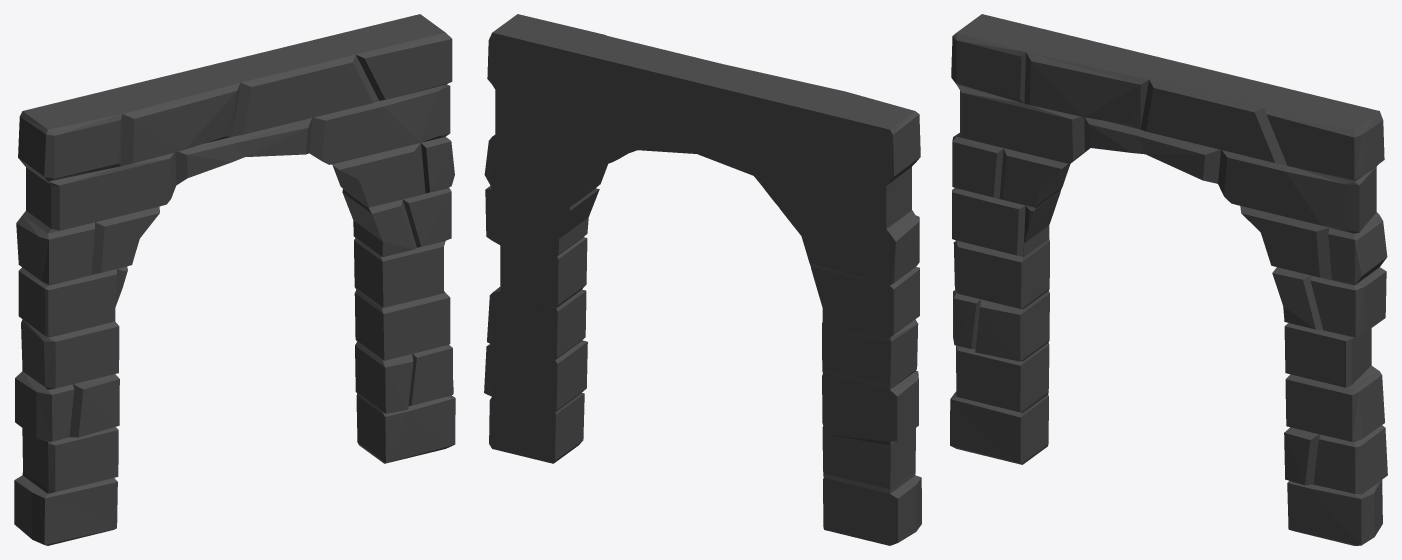
The model's file is Wall_Doorway.fbx.
3 views of the same model, side by side, from view 1: azimuth 30°, elevation 25°; view 2: azimuth 150°, elevation 25°; view 3: azimuth 330°, elevation 25° (orthographic).
Visible parts, largest first — view 1: Wall_Doorway; view 2: Wall_Doorway; view 3: Wall_Doorway.
Part boxes in pixels (bbox=[...]): Wall_Doorway: bbox=[14, 14, 455, 545]; Wall_Doorway: bbox=[484, 14, 921, 545]; Wall_Doorway: bbox=[950, 14, 1387, 545].
Bounding box in the file's own units: 838 × 800 × 110.
Materials: 1 (1 with a texture image).
